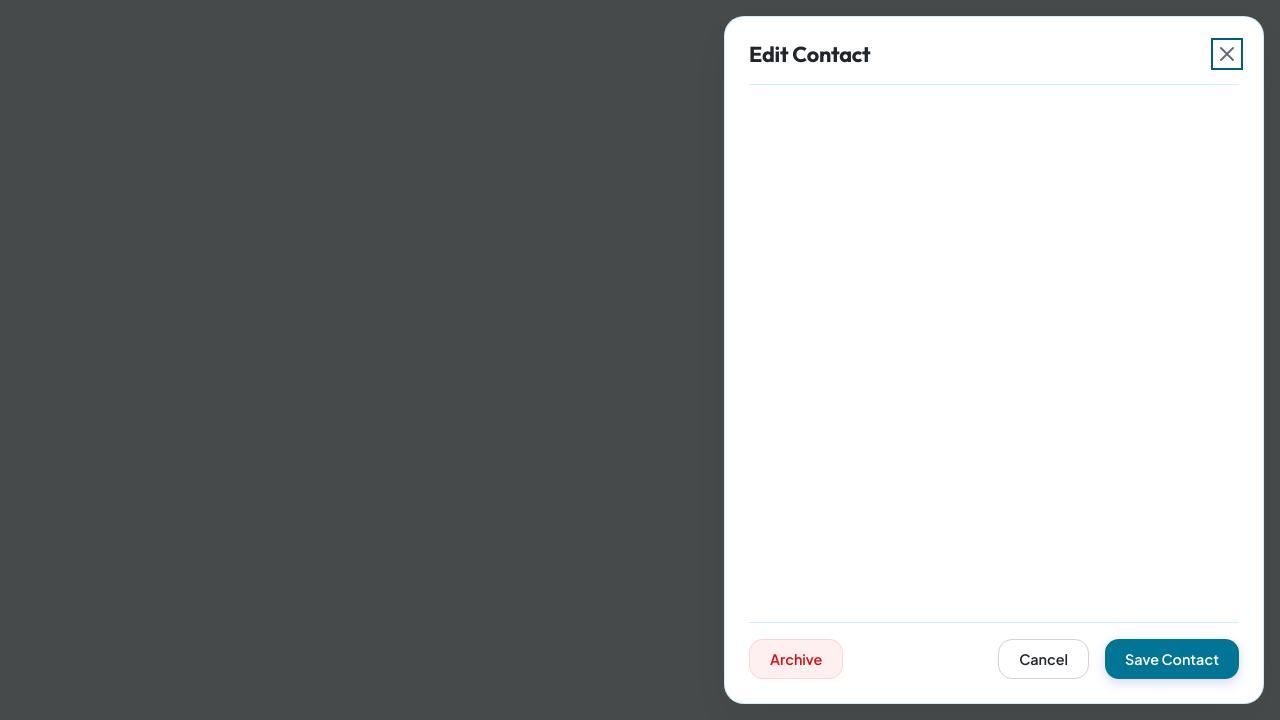
Test: ContactDrawer › archiving › asks in a dialog before archiving, saying the record can be restored
This screenshot has width=1280, height=720.
Click the button with test id "archive-contact" at (796, 659), box top-left (749, 639), bottom-right (844, 679)
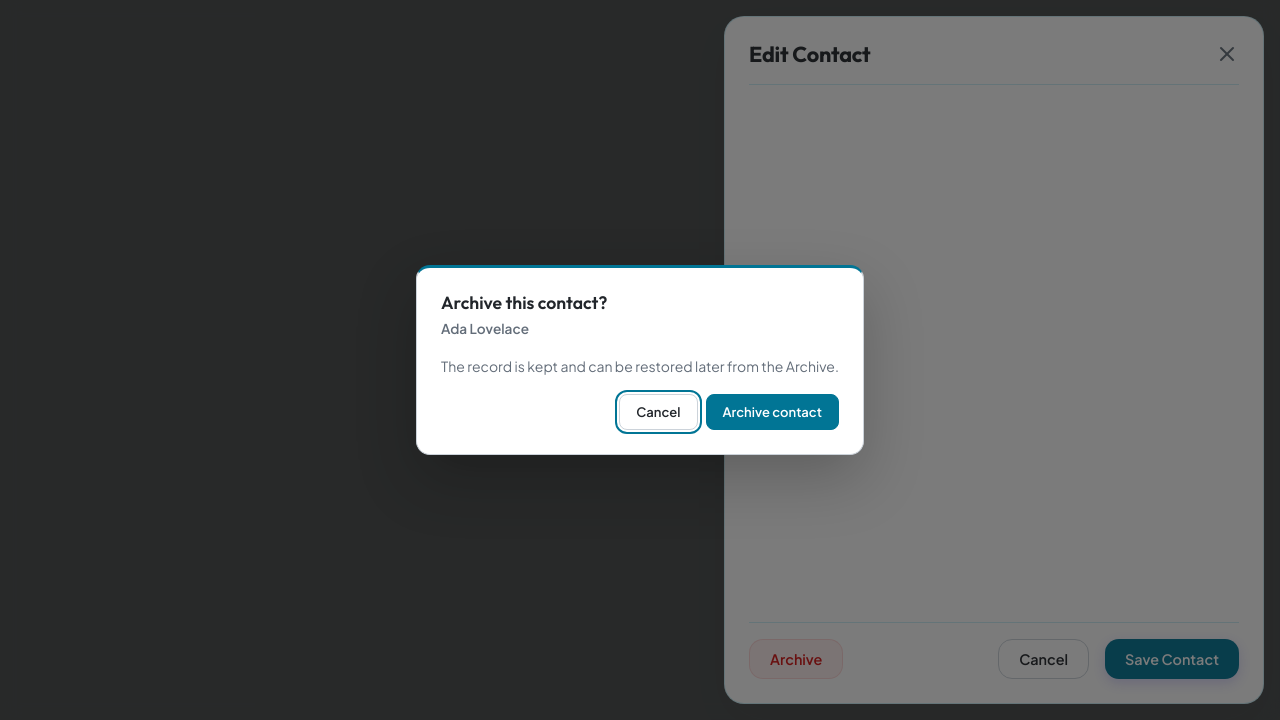
Check: the dialog with test id "confirm-dialog" shows "restored later", box top-left (441, 357), bottom-right (839, 375)
Click the button "Cancel" at (658, 412), box top-left (619, 394), bottom-right (698, 430)
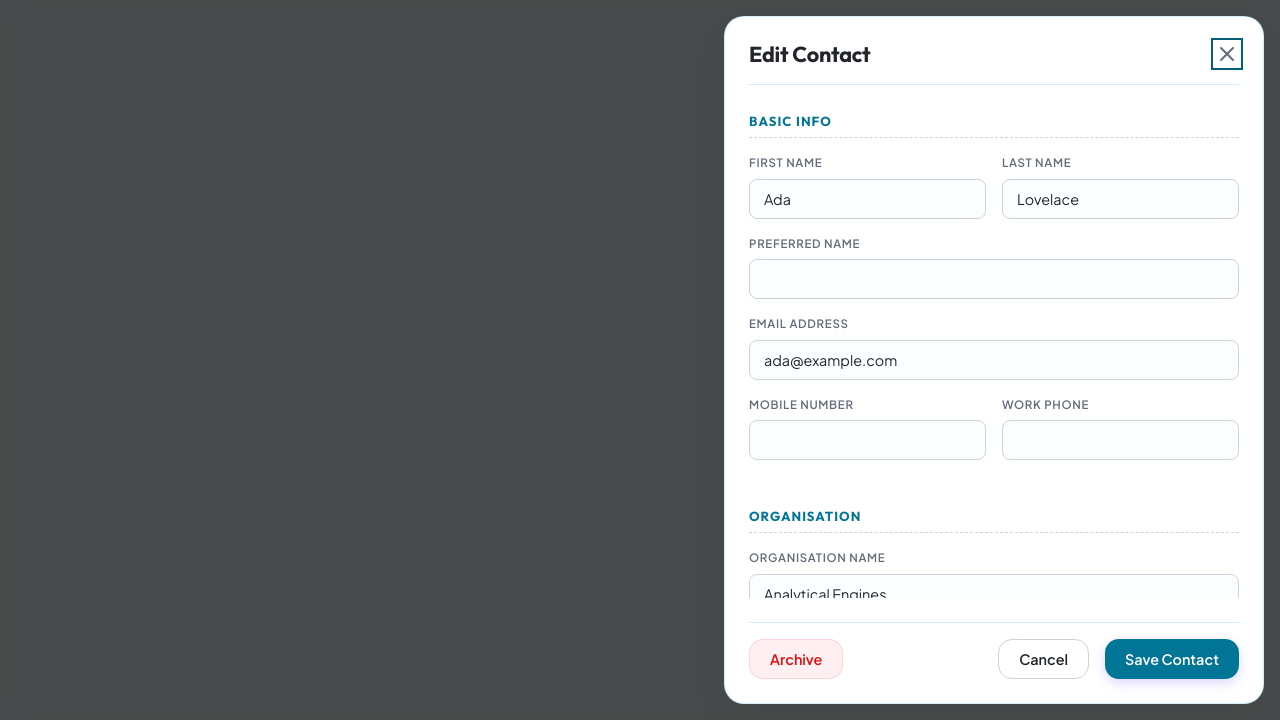
Check: the dialog with test id "confirm-dialog" is gone
